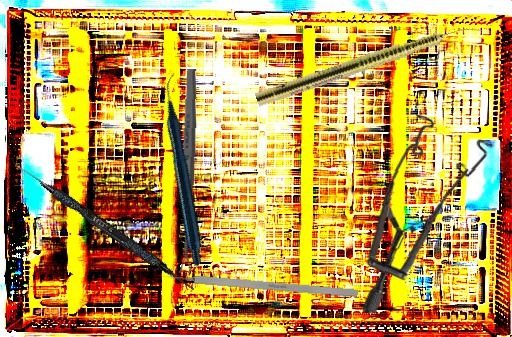Handpiece: (99, 71, 272, 268), (254, 16, 483, 110)
Hook Surgical: (155, 271, 359, 298)
Spatula Surgical: (4, 155, 200, 294)
Speculum: (355, 112, 499, 314)
Surgical Spoon: (177, 68, 199, 274)
